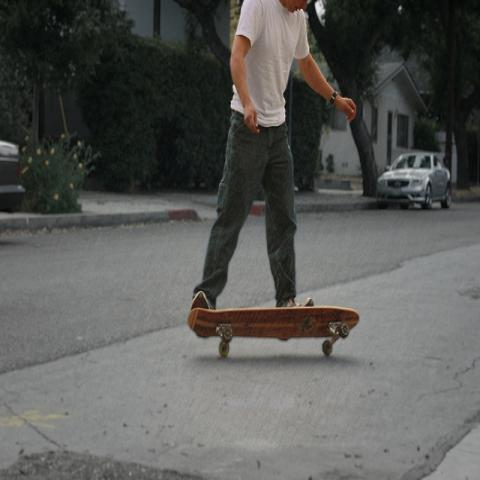car: (376, 150, 453, 213), (0, 140, 27, 211)
